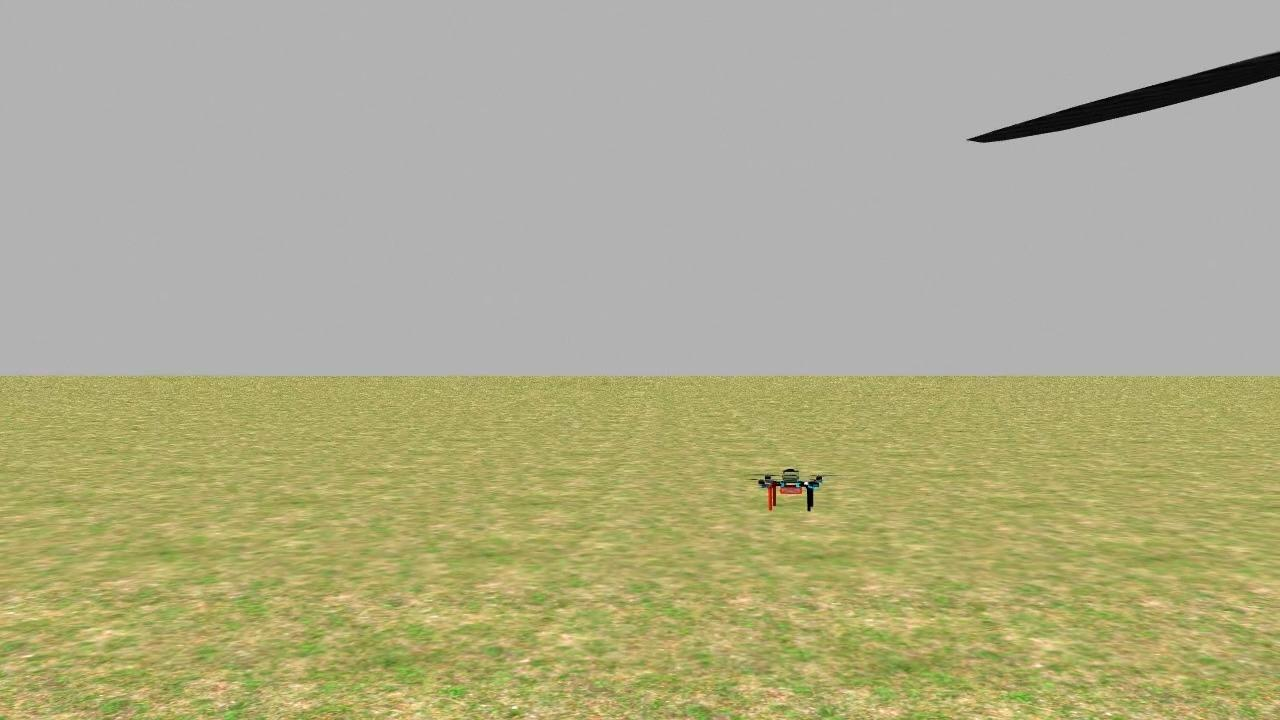UAV: (750, 454, 836, 523)
